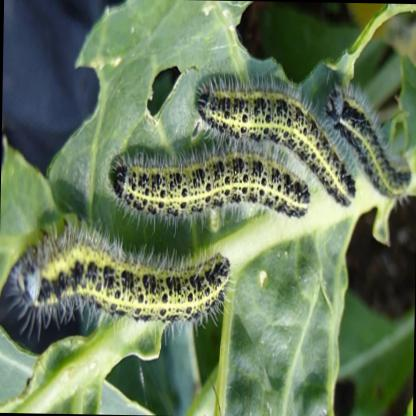pieris: (0, 220, 227, 357), (191, 77, 356, 207), (109, 148, 310, 225), (325, 86, 412, 199)
